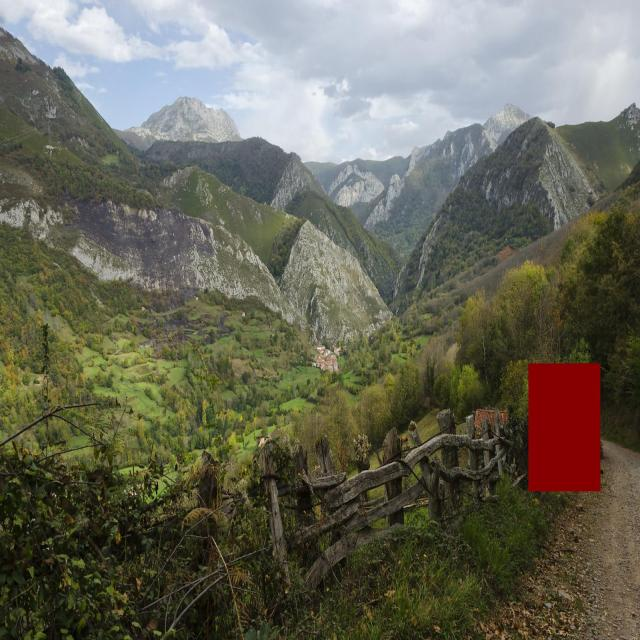RedSquare: (524, 356, 604, 496)
